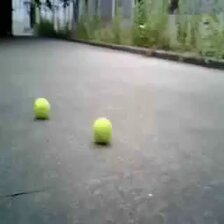tennis: (91, 117, 112, 142), (32, 97, 51, 118)
